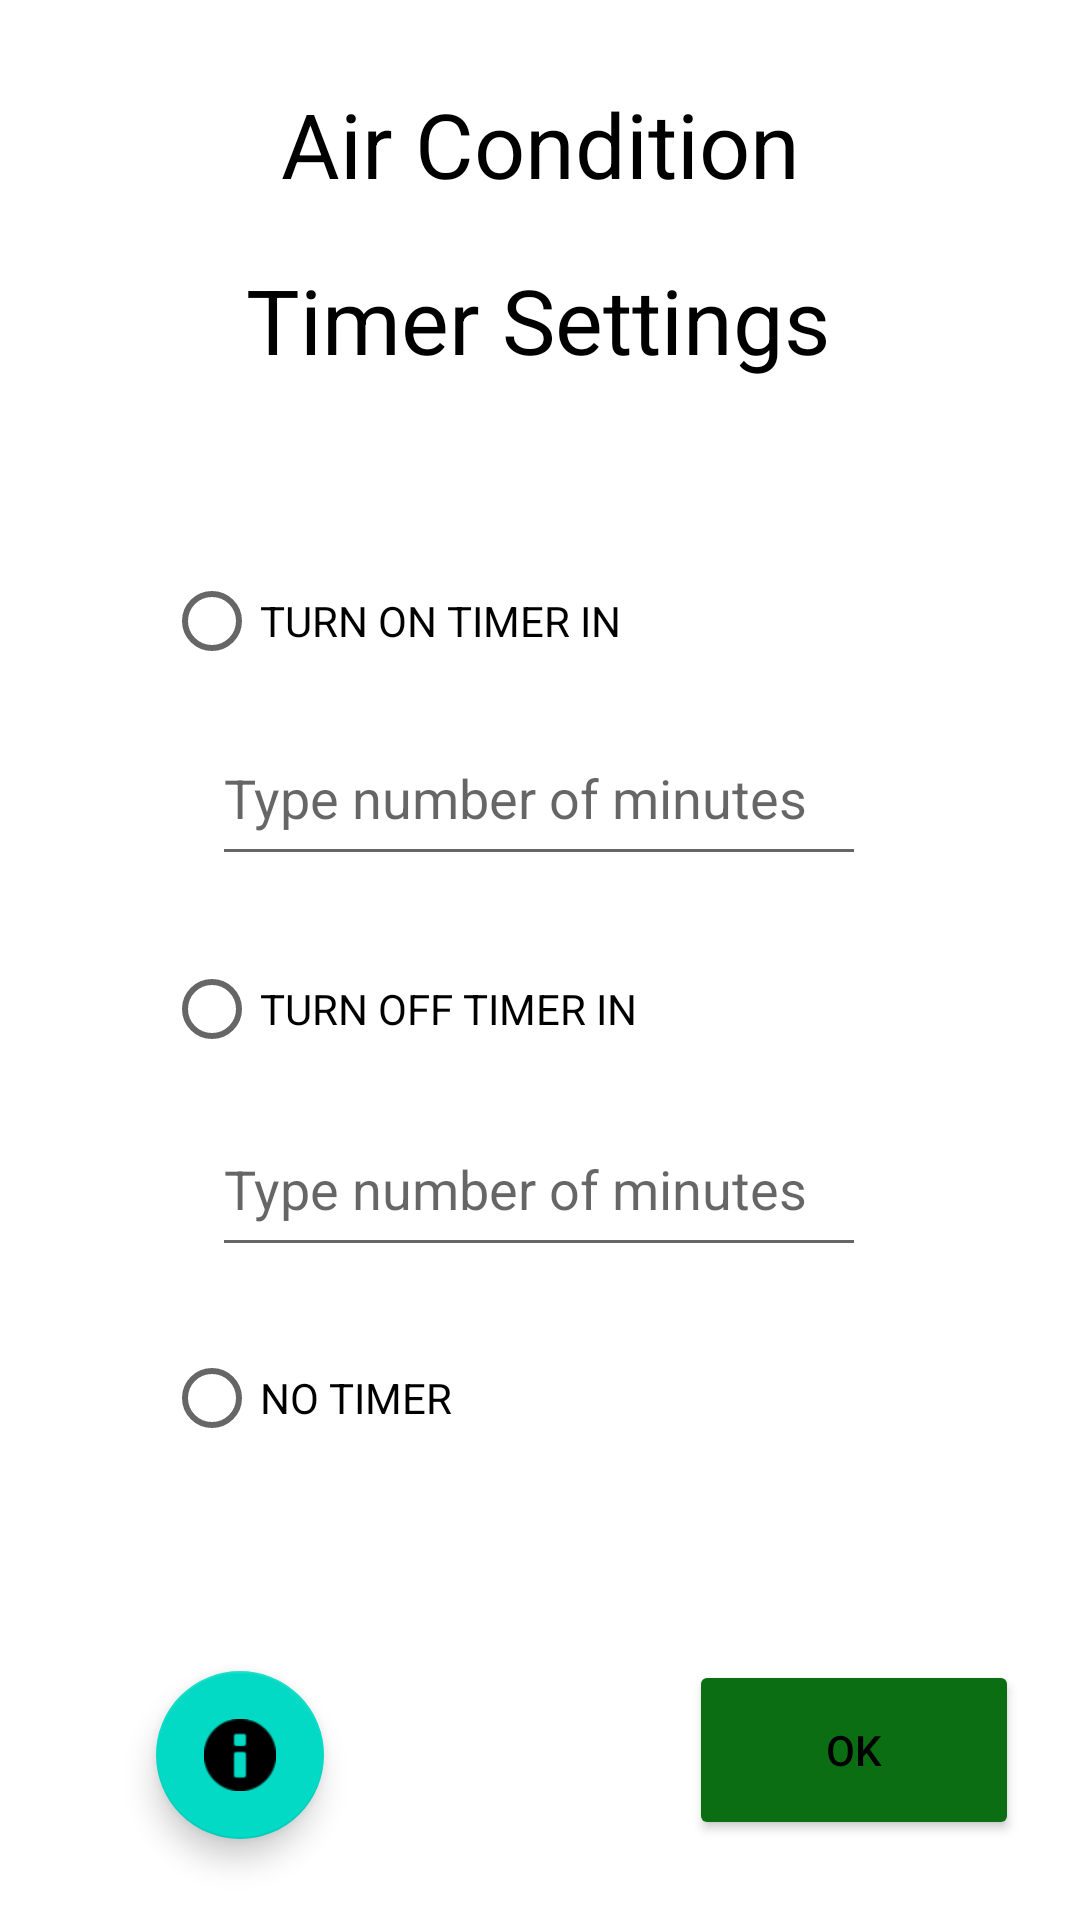

Screen size 1080px x 1920px. Icon name, then its box in pixels as (x1, y1, x2, y2):
info: (156, 1671, 324, 1839)
